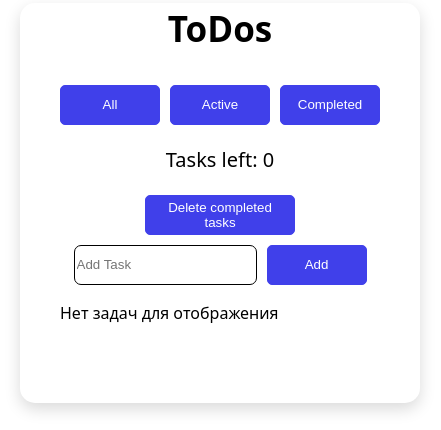
it: App › сохраняет в localStorage
The width and height of the screenshot is (441, 430).
Type "Saved task" into the field with placeholder "Add Task" at coordinates (165, 265), box [74,245,256,285]
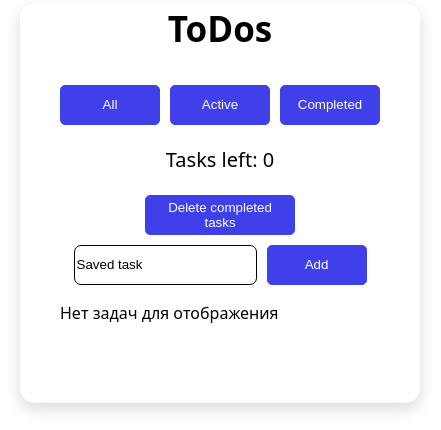
Click the button "Add" at coordinates (316, 265), box [266,245,366,285]
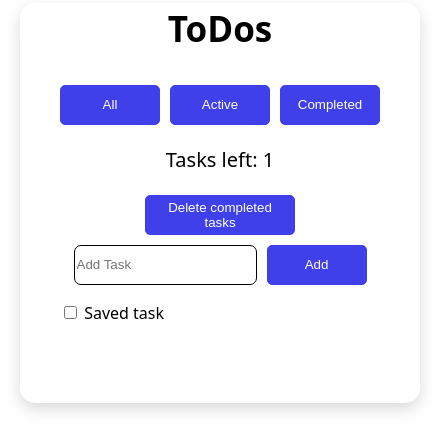
Now the label "Saved task" is shown, box [60,302,164,324]
